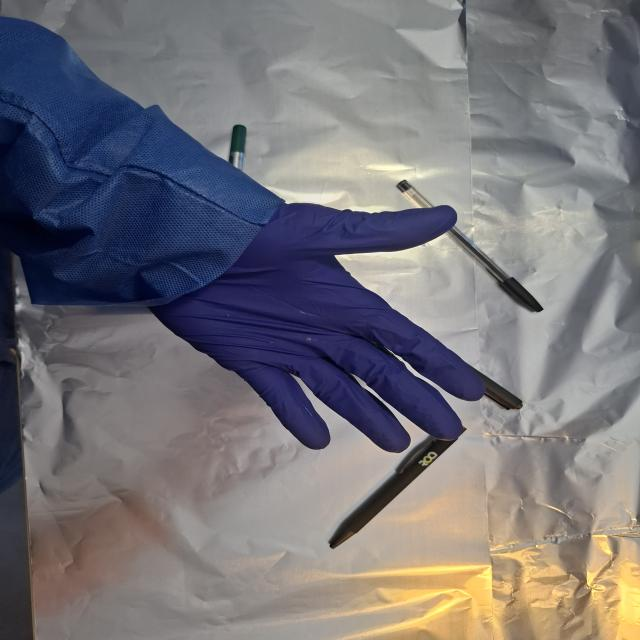glove_on: (143, 198, 489, 456)
